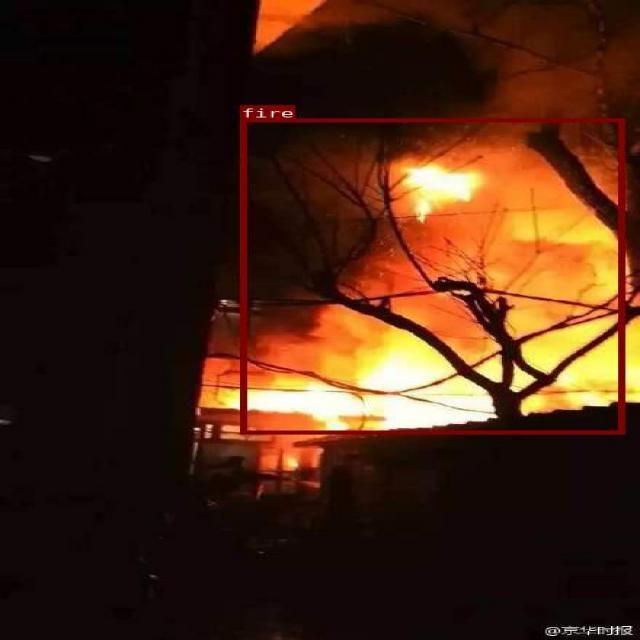fire: (239, 118, 623, 433)
